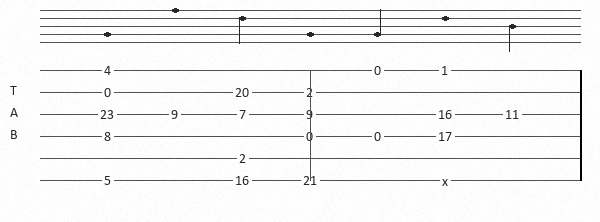0: (104, 86, 115, 99), (306, 130, 317, 143), (374, 64, 385, 77), (374, 130, 385, 143)
1: (441, 64, 452, 77)
11: (505, 108, 523, 121)
16: (235, 174, 253, 187), (438, 108, 456, 121)
17: (438, 130, 456, 143)
2: (239, 152, 250, 165), (306, 86, 317, 99)
20: (235, 86, 253, 99)
21: (303, 174, 321, 187)
23: (100, 108, 118, 121)
4: (104, 64, 115, 77)
5: (104, 174, 115, 187)
7: (239, 108, 250, 121)
8: (104, 130, 115, 143)
9: (171, 108, 182, 121), (306, 108, 317, 121)
x: (442, 175, 452, 186)
